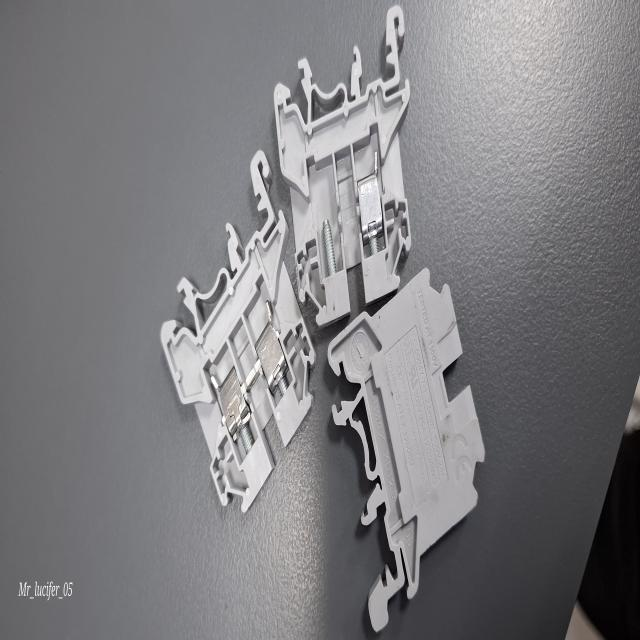Inverted: (324, 266, 484, 632)
Pass: (160, 147, 308, 508)
Reject: (283, 0, 414, 321)
